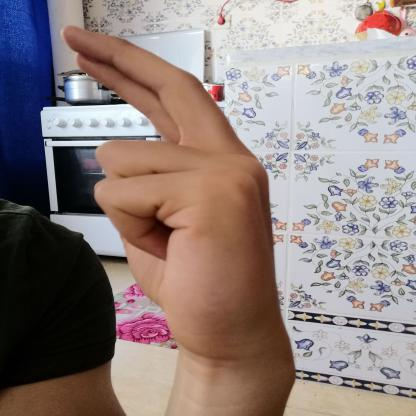ZAY: (45, 12, 310, 376)
